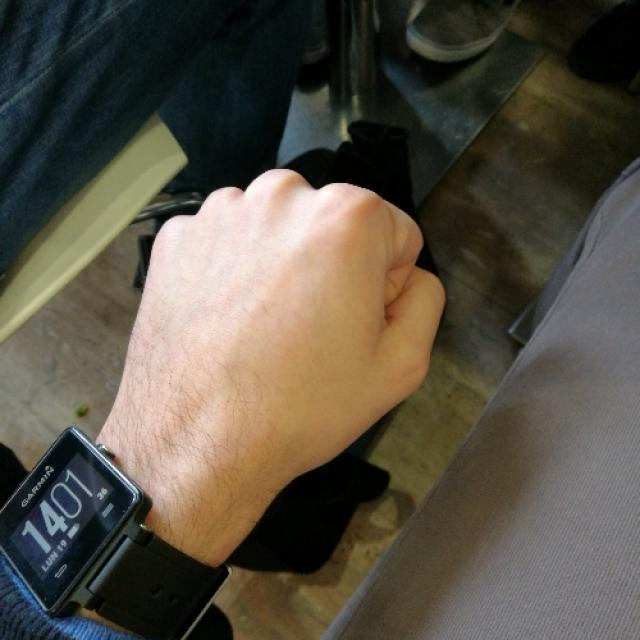rock: (140, 167, 448, 457)
